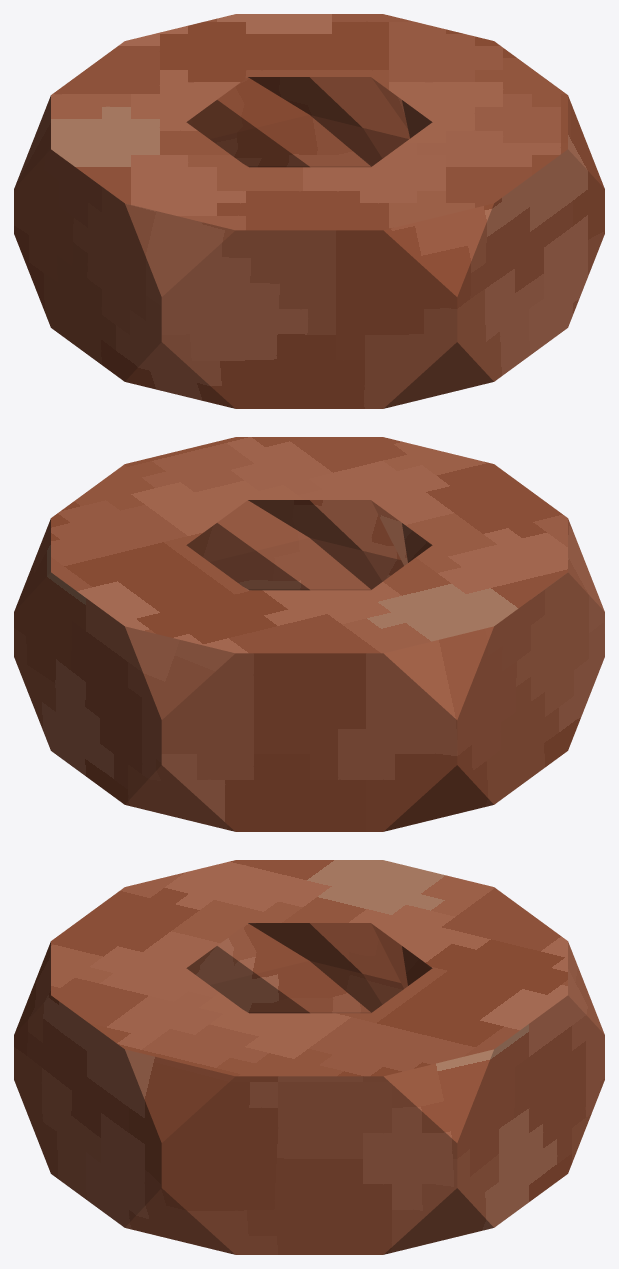
Rendered from nut.fbx.
The picture shows the model from 3 angles, top to bottom: view 1: azimuth 30°, elevation 25°; view 2: azimuth 150°, elevation 25°; view 3: azimuth 270°, elevation 25°; orthographic projection.
Parts seen in each view (by area): view 1: гайка; view 2: гайка; view 3: гайка.
Boxes of the visible parts, box(x1,y1,x2,y2) form: гайка: box(14, 14, 604, 408); гайка: box(14, 437, 604, 831); гайка: box(14, 860, 604, 1254).
Size of the model in its own units: 4.16 by 1.6 by 4.8.
